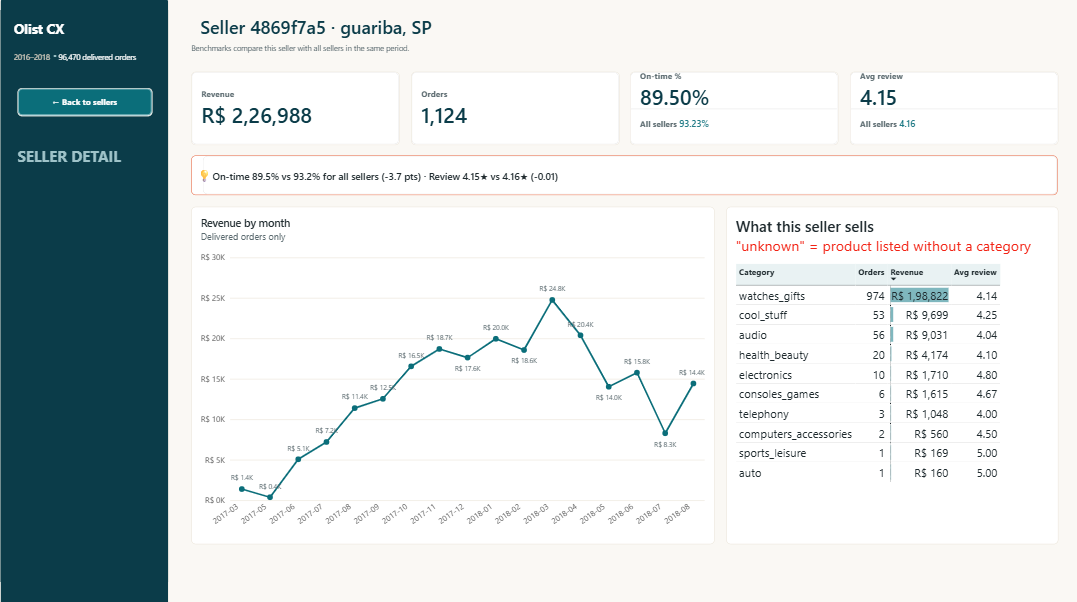

What the dashboard file says about the page in this screenshot:
{"tool":"powerbi","page":{"name":"Seller detail","canvas":[1920,1080],"ordinal":3},"visuals":[{"type":"shape","box":[0,0,300,1088],"z":0},{"type":"textbox","box":[24,38,252,105],"z":1},{"type":"textbox","box":[30,262,240,100],"z":2},{"type":"actionButton","box":[30,160,240,50],"z":3},{"type":"cardVisual","fields":{"Data":["_Measures.Seller Detail Title"]},"box":[340,20,1100,60],"z":4},{"type":"textbox","box":[340,80,1100,30],"z":5},{"type":"cardVisual","fields":{"Data":["_Measures.Revenue"]},"box":[340,130,370,130],"z":6},{"type":"cardVisual","fields":{"Data":["_Measures.Item-level Orders"]},"box":[730,130,370,130],"z":7},{"type":"cardVisual","fields":{"Data":["_Measures.Item-level On-time %"]},"box":[1120,130,370,130],"z":8},{"type":"cardVisual","fields":{"Data":["_Measures.Avg Review (via items)"]},"box":[1510,132,370,130],"z":9},{"type":"cardVisual","fields":{"Data":["_Measures.Seller Verdict"]},"box":[340,280,1540,70],"z":10},{"type":"textbox","box":[349,300,26.9,40.3],"z":11},{"type":"lineChart","title":"Revenue by month","fields":{"Category":["dim_date.year_month"],"Y":["_Measures.Revenue"]},"box":[340,370,930,600],"z":12},{"type":"tableEx","title":"What this seller sells","fields":{"Values":["dim_product.category_en","_Measures.Item-level Orders","_Measures.Revenue","_Measures.Avg Review (via items)"]},"box":[1290,370,590,600],"z":13}]}

Visuals, with their boxes on the page's 1920x1080 design canvas (x1, y1, x2, y2). These are canvas units, not pixel positions in the 1077x602 screenshot, which may show the page scaled, cropped or inside an application window:
shape: BBox(0, 0, 300, 1088)
textbox: BBox(24, 38, 276, 143)
textbox: BBox(30, 262, 270, 362)
actionButton: BBox(30, 160, 270, 210)
cardVisual - _Measures.Seller Detail Title: BBox(340, 20, 1440, 80)
textbox: BBox(340, 80, 1440, 110)
cardVisual - _Measures.Revenue: BBox(340, 130, 710, 260)
cardVisual - _Measures.Item-level Orders: BBox(730, 130, 1100, 260)
cardVisual - _Measures.Item-level On-time %: BBox(1120, 130, 1490, 260)
cardVisual - _Measures.Avg Review (via items): BBox(1510, 132, 1880, 262)
cardVisual - _Measures.Seller Verdict: BBox(340, 280, 1880, 350)
textbox: BBox(349, 300, 376, 340)
"Revenue by month" lineChart: BBox(340, 370, 1270, 970)
"What this seller sells" tableEx: BBox(1290, 370, 1880, 970)
